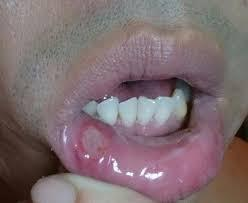Ulcer: (75, 121, 117, 164)
